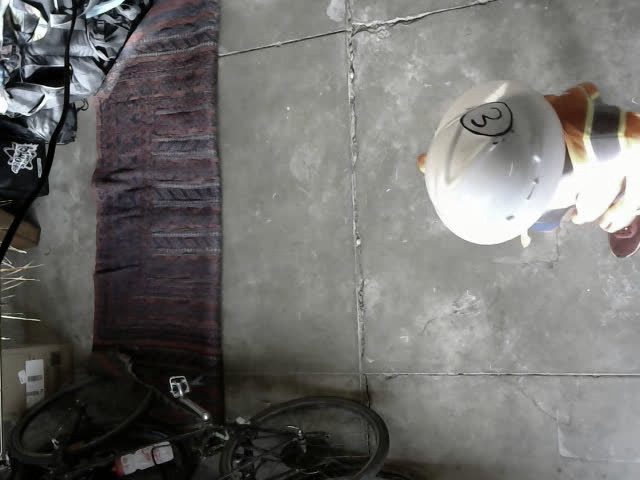three: (459, 101, 510, 138)
